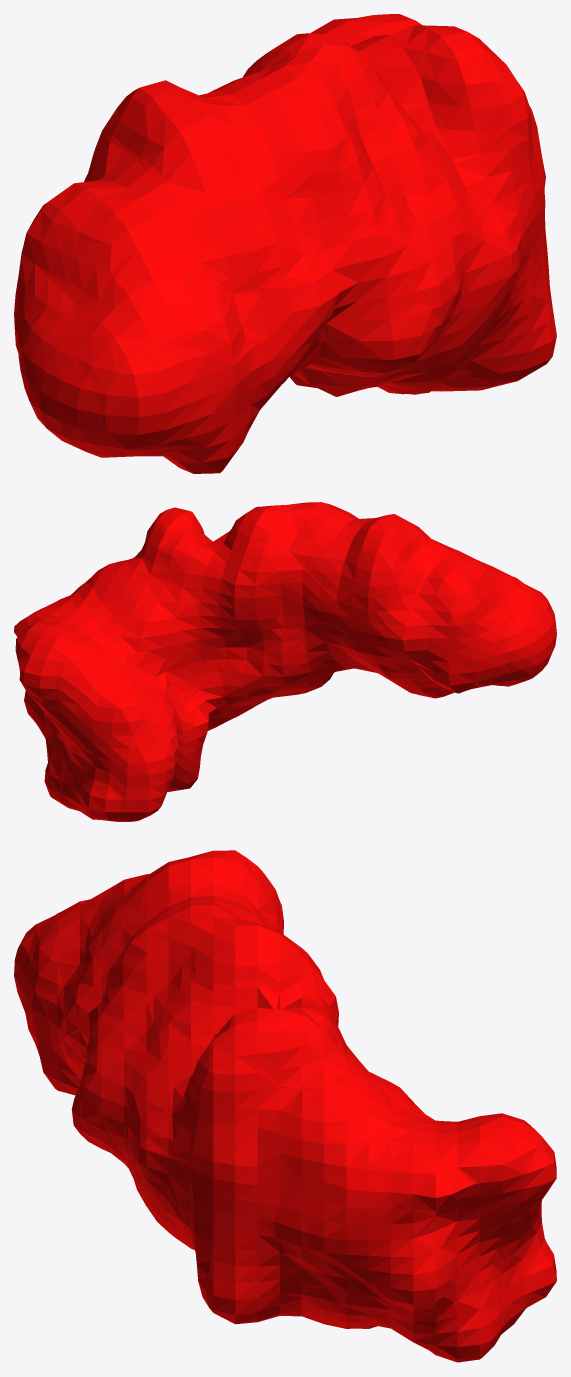
Rendered from ampE_coarse.dae.
3 views of the same model, one above another, from view 1: azimuth 30°, elevation 25°; view 2: azimuth 150°, elevation 25°; view 3: azimuth 270°, elevation 25° (orthographic). The views are drawn at different scales.
Parts seen in each view (by area): view 1: ampE; view 2: ampE; view 3: ampE.
Part boxes in pixels (bbox=[...]): ampE: bbox=[14, 14, 556, 473]; ampE: bbox=[14, 502, 556, 821]; ampE: bbox=[14, 850, 556, 1362].
Bounding box in the file's own units: 75.39 × 47.77 × 64.42.
